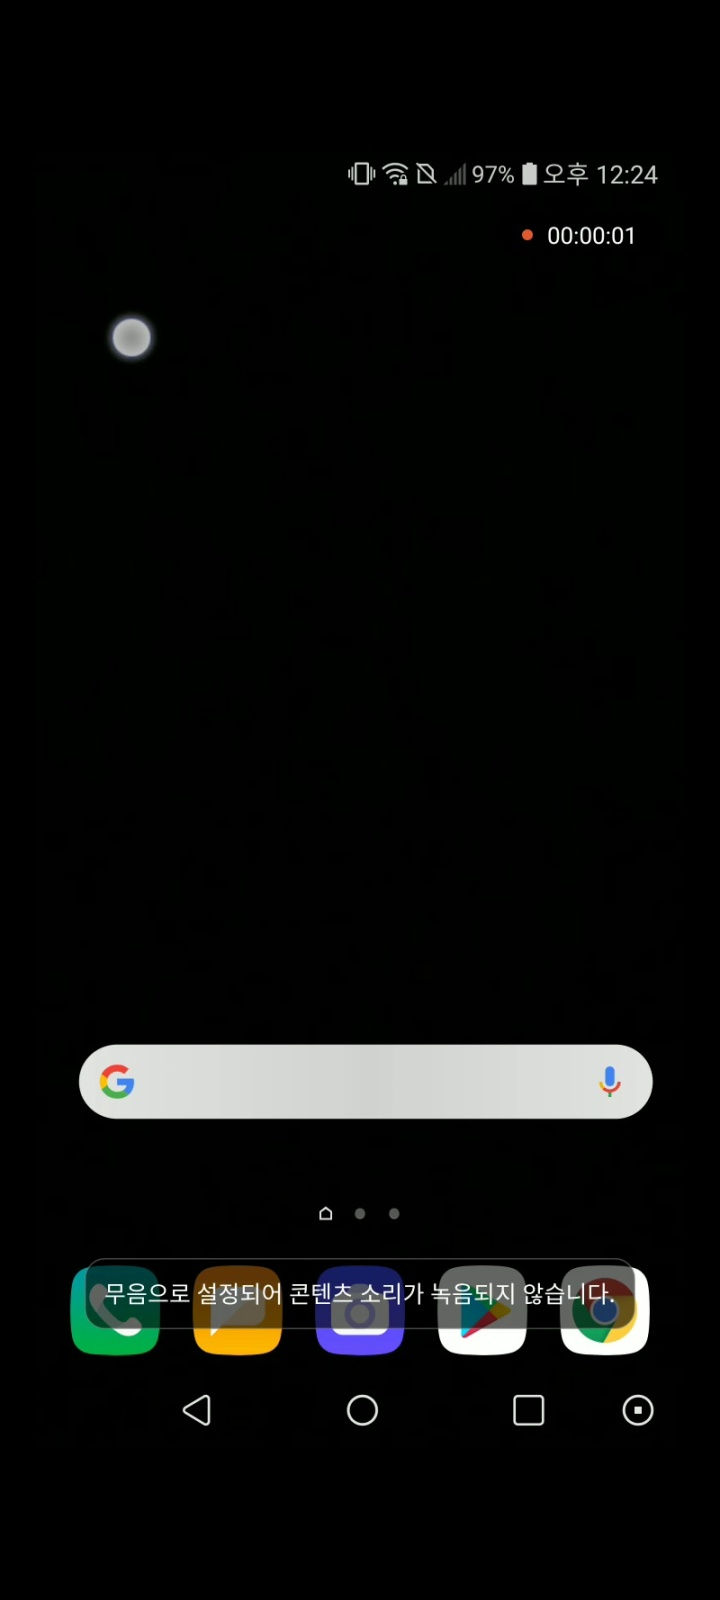Cursor: (110, 316, 155, 361)
